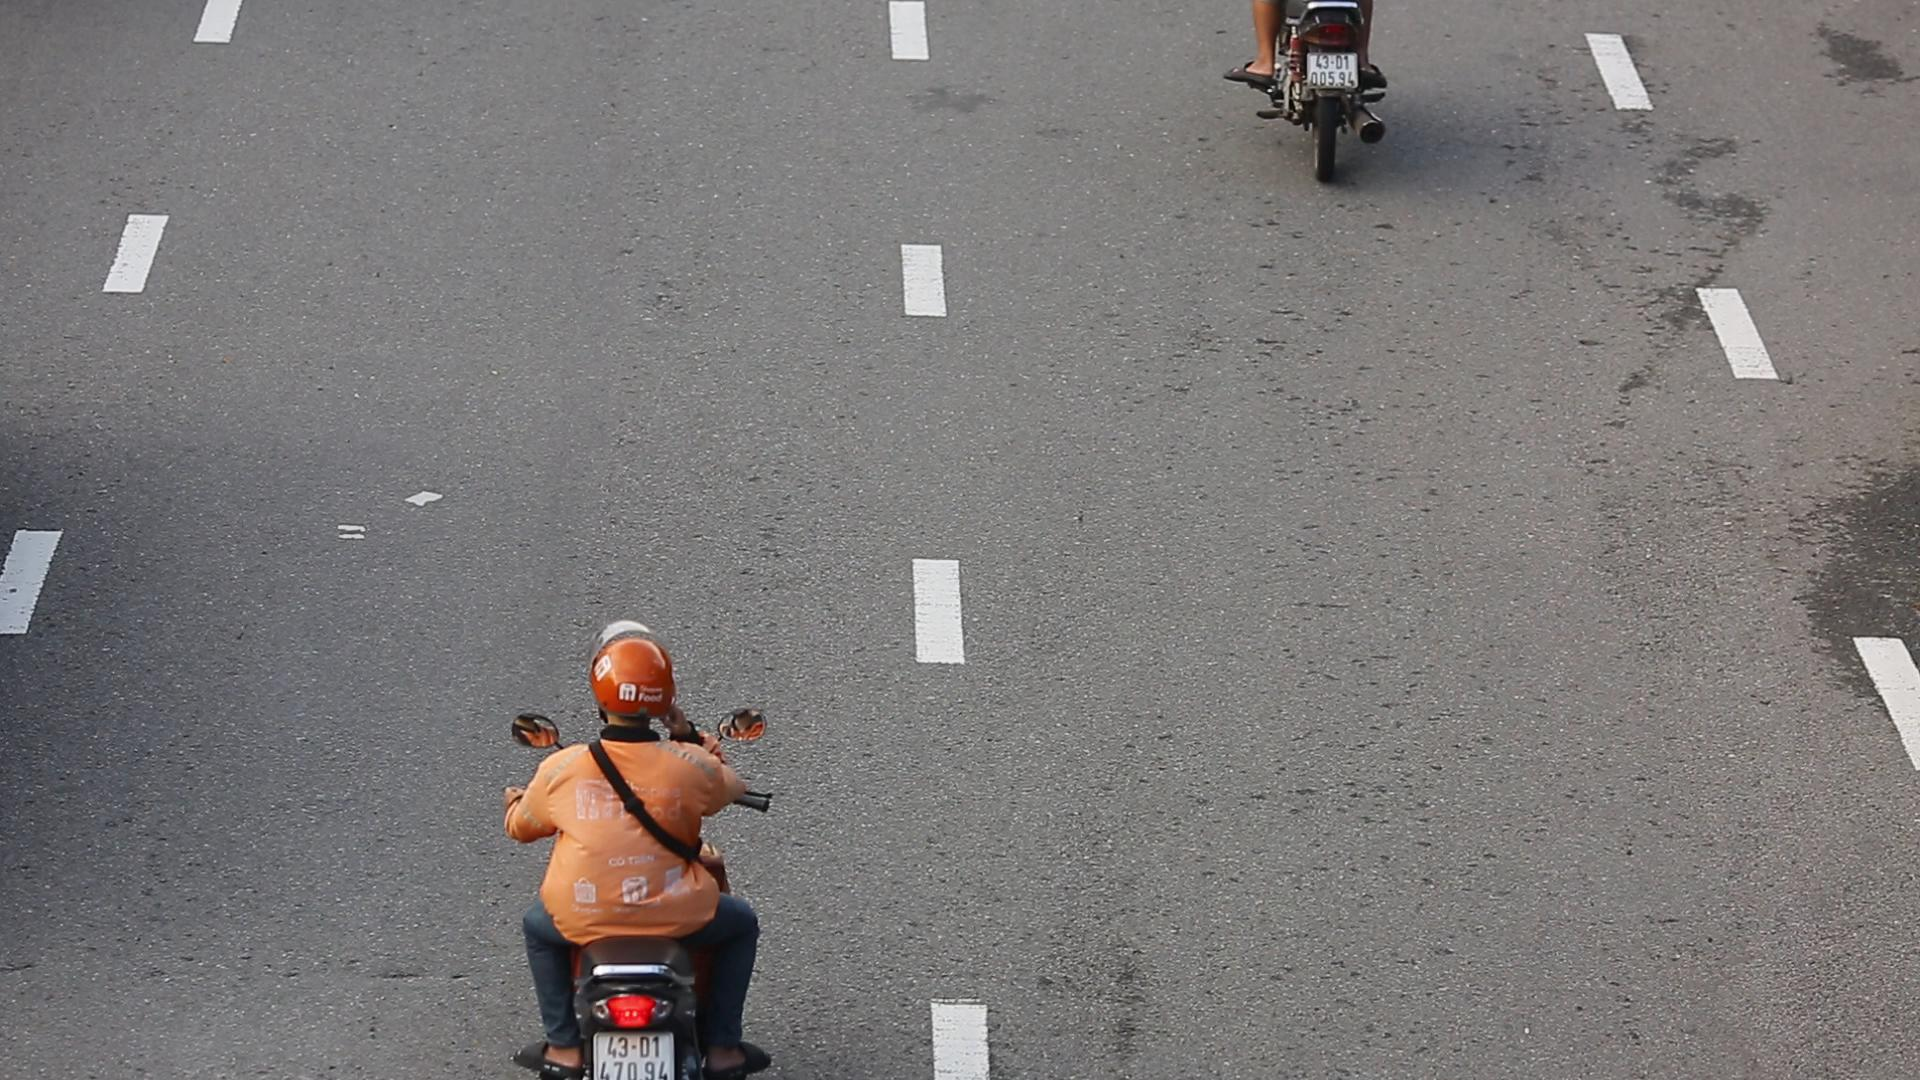motobike: (500, 612, 769, 1080)
